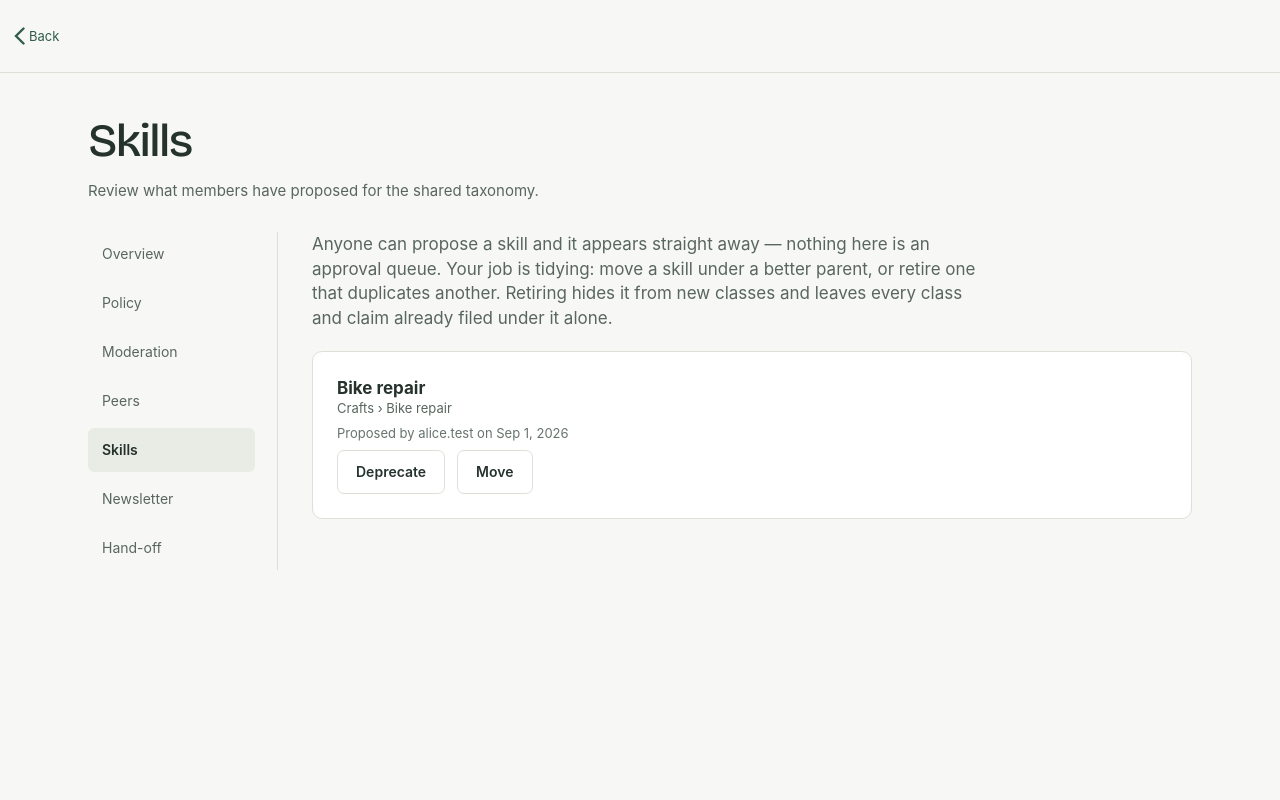
Scenario: SkillsAdminScreen › shows the friendly sentence inside the sheet on a 502, then closes and refetches on retry success
This screenshot has width=1280, height=800.
expect the text "Bike repair" is shown: met, box [337,378,425,398]
Click the button "Deprecate". click: (391,472)
box: [337,450,445,494]
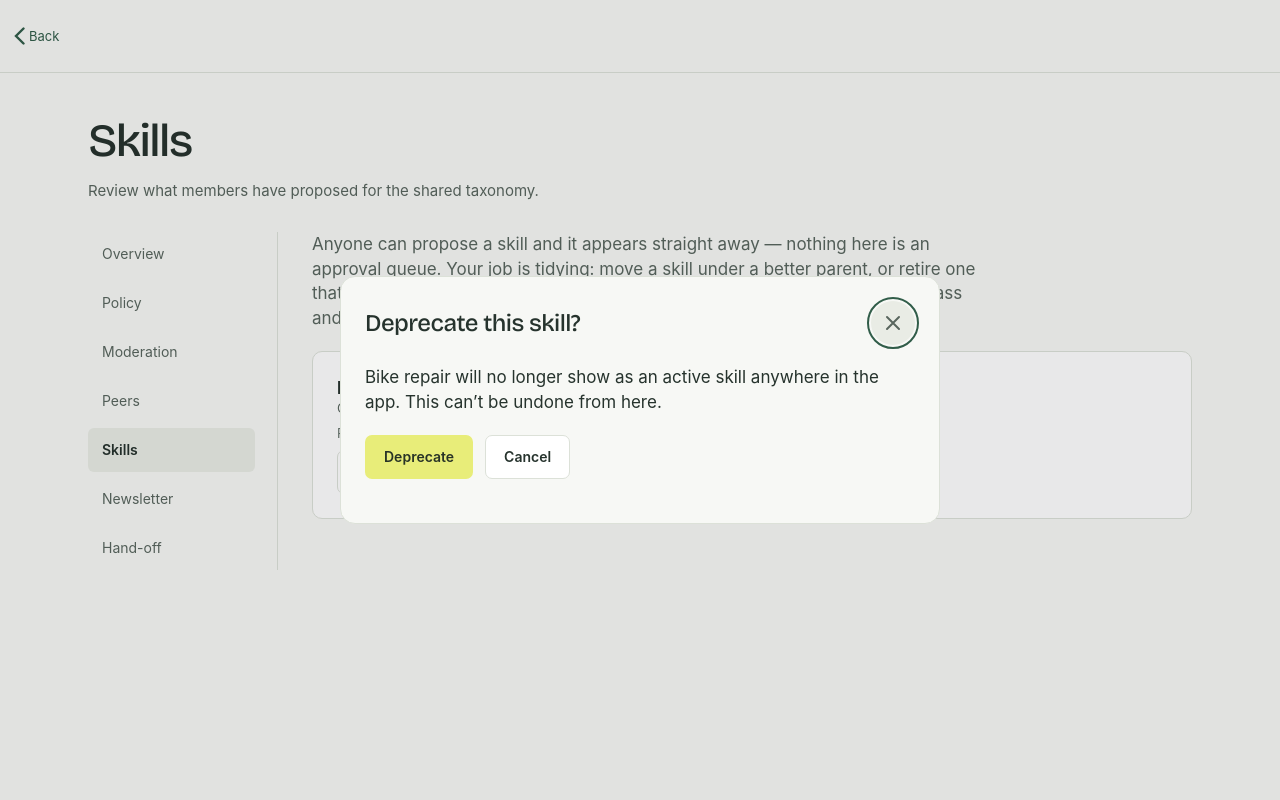
Click the button "Deprecate". click: (419,457)
box: [365,435,473,479]
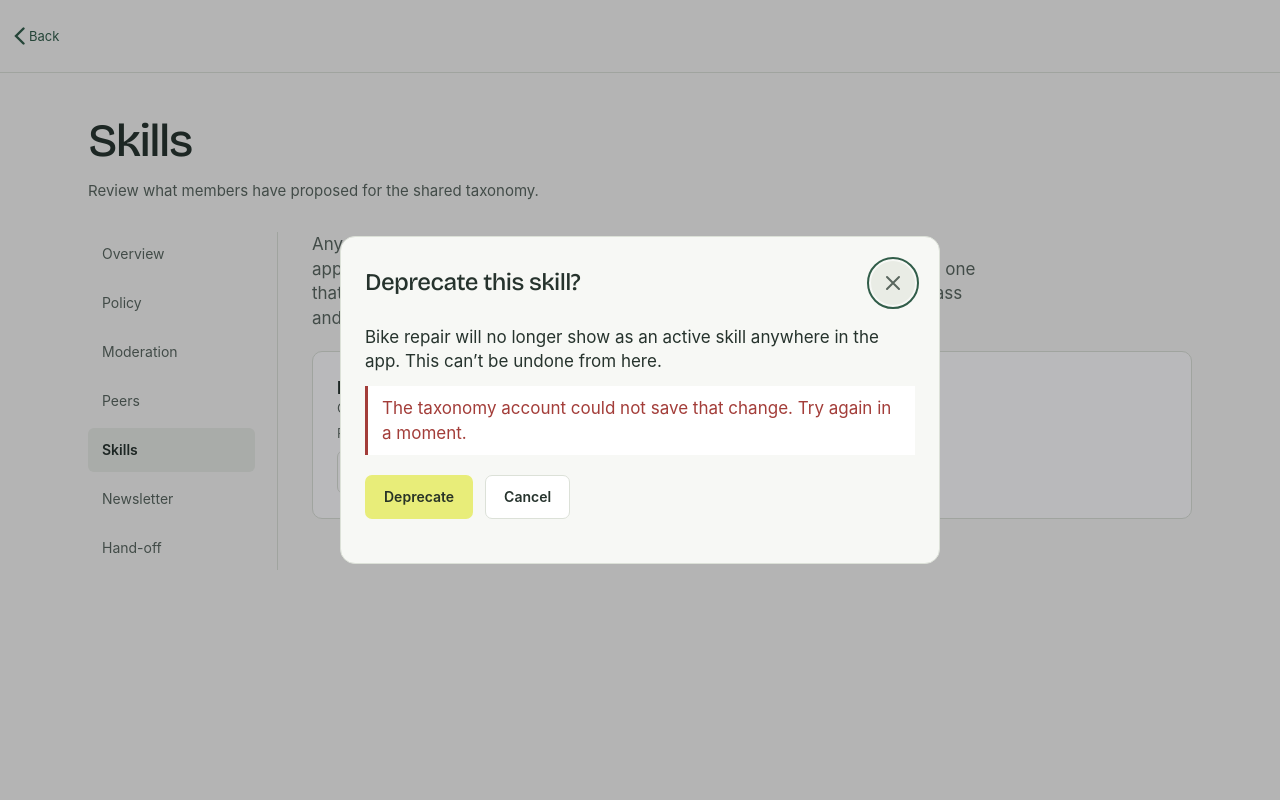
expect the dialog is shown: met, box [340,236,940,564]
expect the heading "Deprecate this skill?" is shown: met, box [365,268,580,296]
expect the text "The taxonomy account could not save that change. Try again in a moment." is shown: met, box [365,386,915,455]
Click the button "Deprecate". click: (419,497)
box: [365,475,473,519]
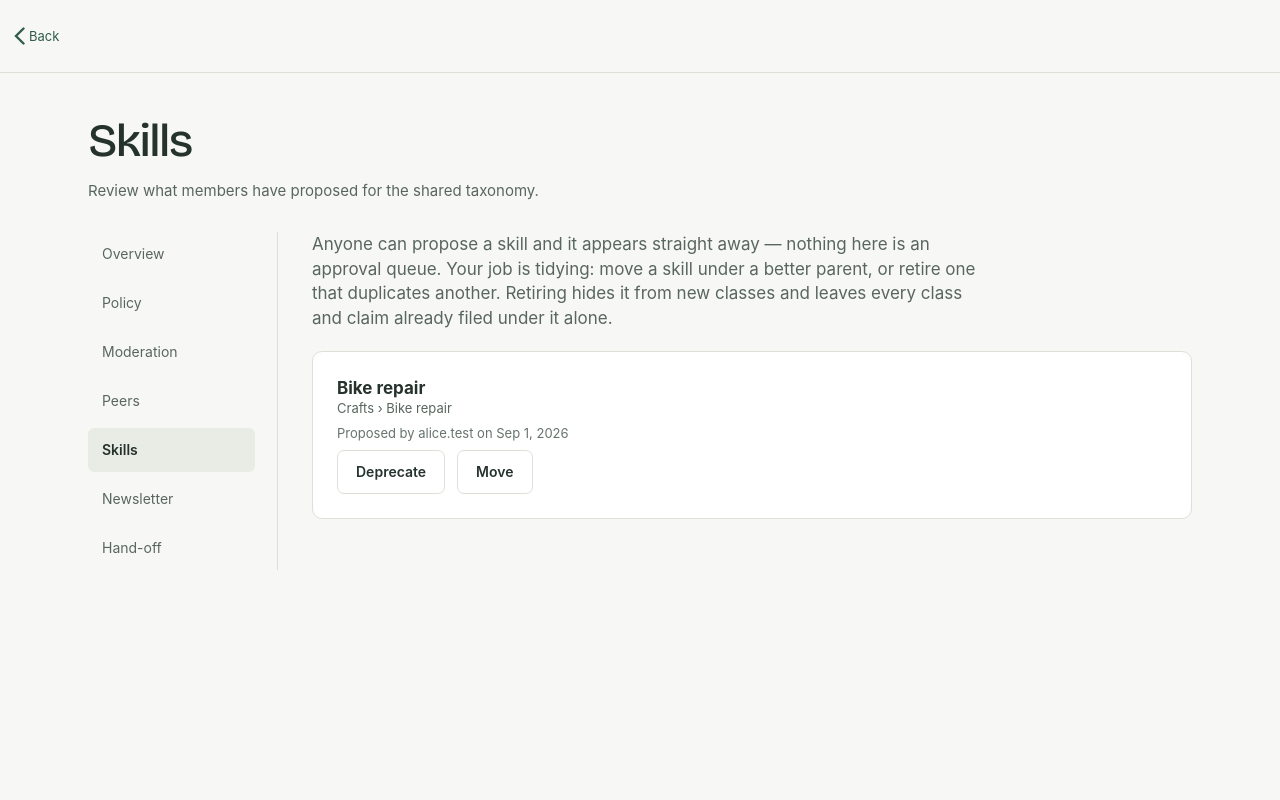
expect the text "The taxonomy account could not save that change. Try again in a moment." is gone: met
